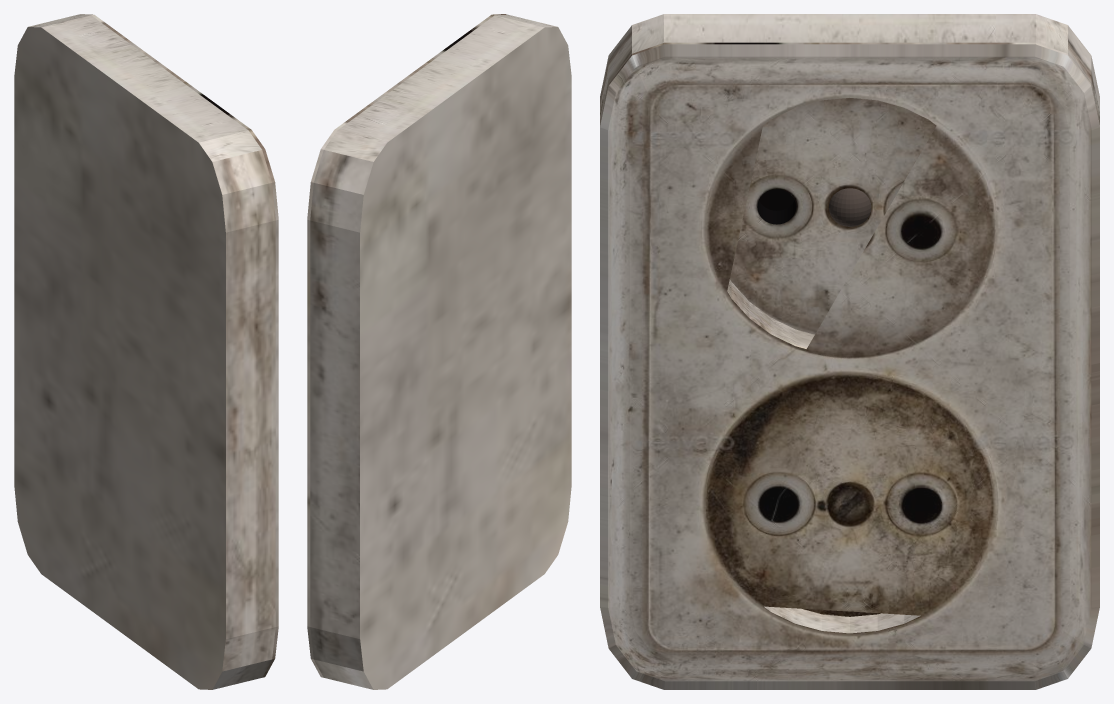
The model's file is OldOutlet.fbx.
The picture shows the model from 3 angles, left to right: view 1: azimuth 30°, elevation 25°; view 2: azimuth 150°, elevation 25°; view 3: azimuth 270°, elevation 25°; orthographic projection. The views are drawn at different scales.
Visible parts, largest first — view 1: Outlet; view 2: Outlet; view 3: Outlet.
Part boxes in pixels (x1,y1,x2,y2): Outlet: (14,14,278,689); Outlet: (307,14,571,689); Outlet: (600,14,1099,689).
Size of the model in its own units: 67.52 by 598 by 420.
